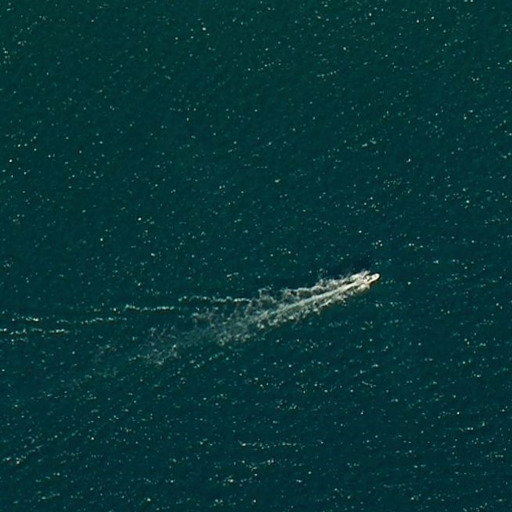ship: (360, 270, 382, 290)
